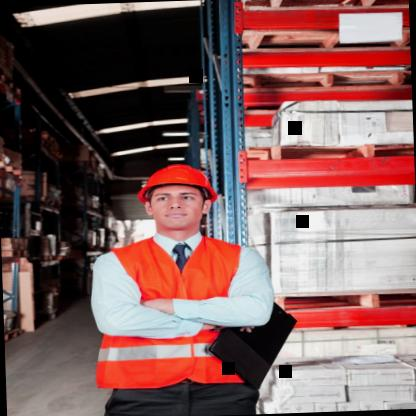helmet: (124, 153, 228, 239)
